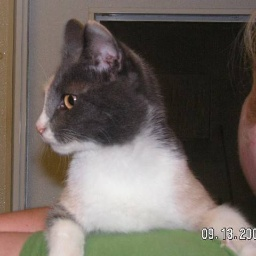cat: (33, 19, 256, 256)
